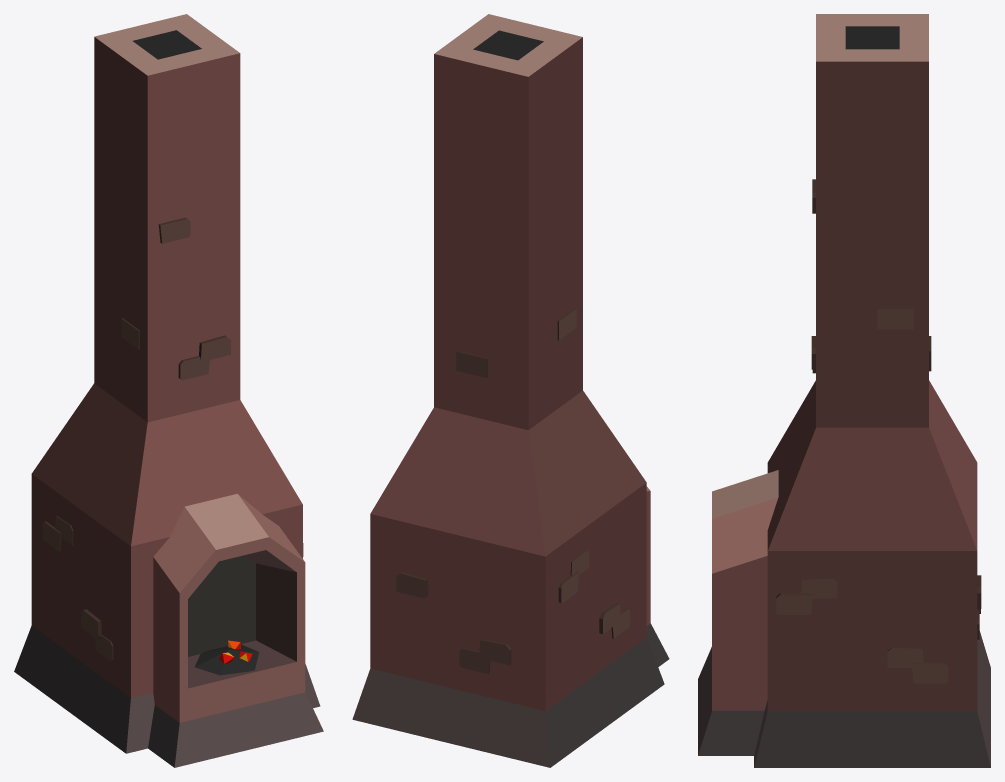
File: TB_D_Bd_Kiln_Red.FBX
3 views of the same model, side by side, from view 1: azimuth 30°, elevation 25°; view 2: azimuth 150°, elevation 25°; view 3: azimuth 270°, elevation 25° (orthographic). The views are drawn at different scales.
Visible parts, largest first — view 1: TB_D_Bd_Kiln_Red; view 2: TB_D_Bd_Kiln_Red; view 3: TB_D_Bd_Kiln_Red.
Boxes of the visible parts, x1=… form: TB_D_Bd_Kiln_Red: x1=14, y1=14, x2=323, y2=767; TB_D_Bd_Kiln_Red: x1=352, y1=14, x2=669, y2=767; TB_D_Bd_Kiln_Red: x1=698, y1=14, x2=990, y2=767.
Size of the model in its own units: 2.26 by 7.16 by 2.8.
